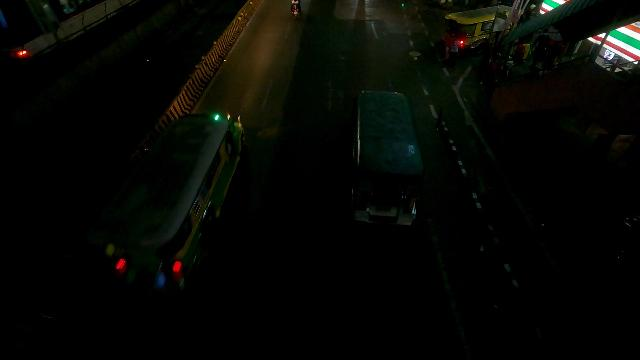jeepney: (102, 112, 248, 292)
